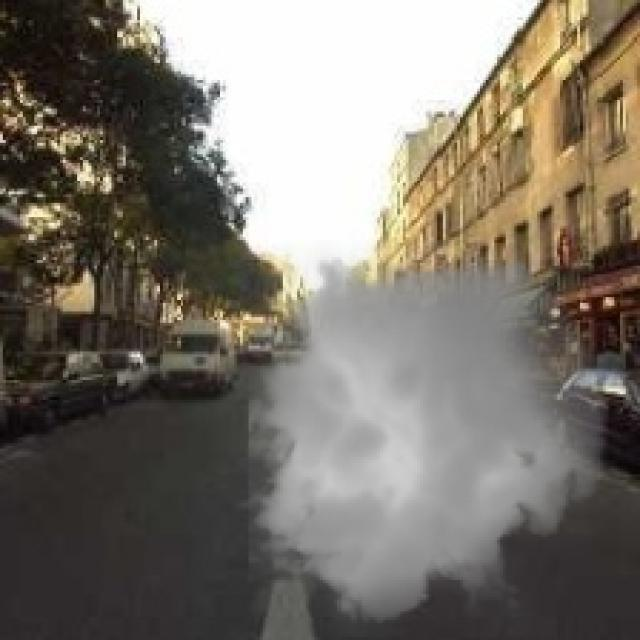Smoke: (231, 240, 620, 637)
